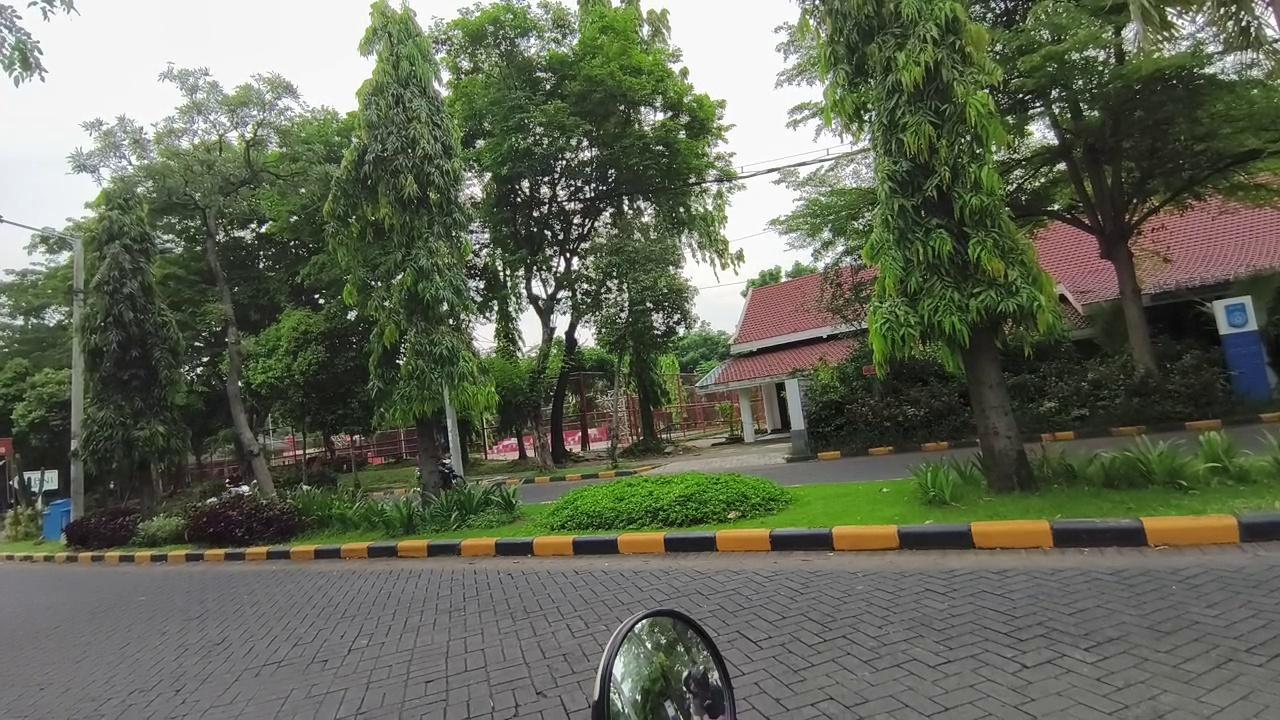Motor: (437, 456, 463, 489)
